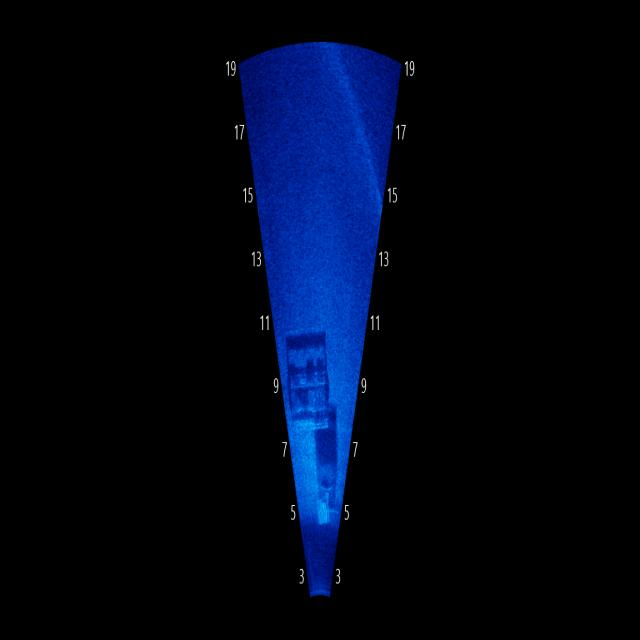square: (284, 321, 340, 436), (313, 439, 342, 552)
